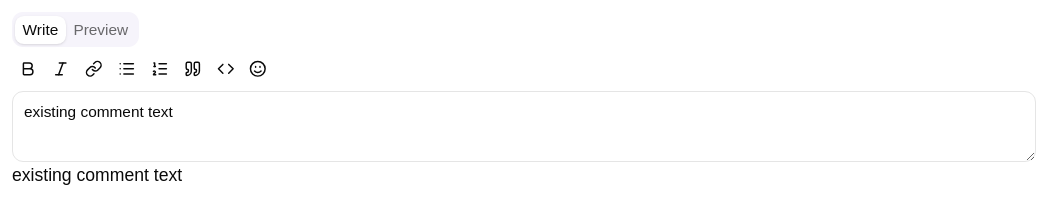
Test: MarkdownEditor + react-hook-form register() (uncontrolled) › shows the register()-supplied initial value (edit-form scenario) without any typing
This screenshot has width=1048, height=202.
Expected: the text box holds "existing comment text", [12,91,1036,162]
Click the tab "Preview".
click(101, 30)  # box [66,16,136,44]
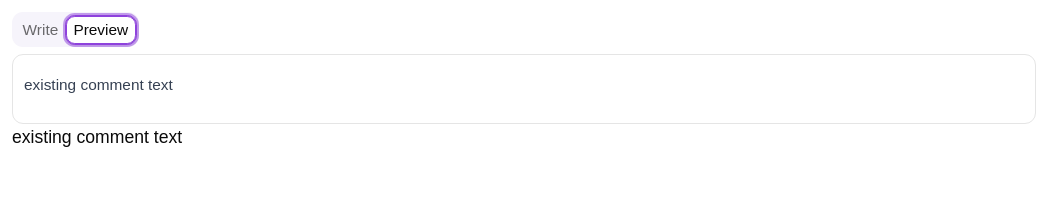
Result: the 1st text "existing comment text" is shown at [24,76,173,93]
